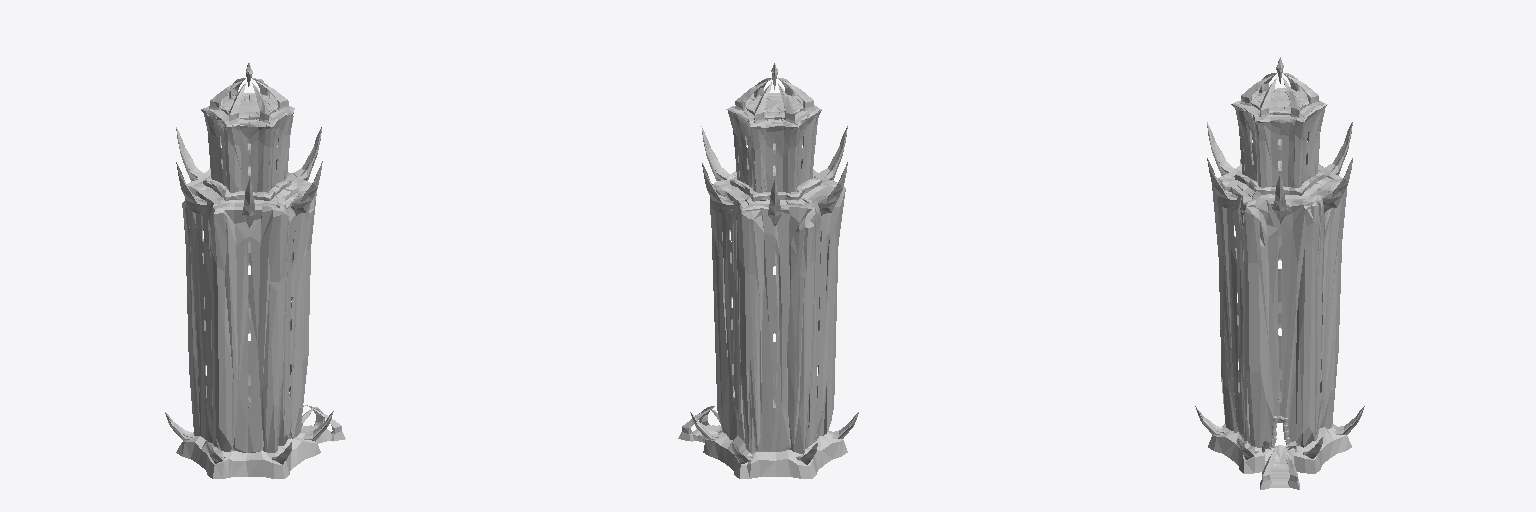
Rendered from wizard tower.obj.
The picture shows the model from 3 angles: view 1: azimuth 30°, elevation 25°; view 2: azimuth 150°, elevation 25°; view 3: azimuth 270°, elevation 25°; orthographic projection.
Visible parts, largest first — view 1: Circle.003_Circle.002, Circle.004_Circle.003, Circle.001; view 2: Circle.003_Circle.002, Circle.004_Circle.003, Circle.001; view 3: Circle.003_Circle.002, Circle.004_Circle.003, Circle.001.
Boxes of the visible parts, box(x1,y1,x2,y2) form: Circle.003_Circle.002: box(176, 127, 322, 452); Circle.004_Circle.003: box(201, 78, 294, 192); Circle.001: box(165, 392, 345, 478); Circle.003_Circle.002: box(701, 126, 847, 454); Circle.004_Circle.003: box(726, 78, 821, 192); Circle.001: box(678, 392, 858, 478); Circle.003_Circle.002: box(1207, 122, 1352, 447); Circle.004_Circle.003: box(1231, 73, 1327, 187); Circle.001: box(1195, 406, 1364, 489).
Bounding box in the file's own units: 21.18 × 49.42 × 19.4.